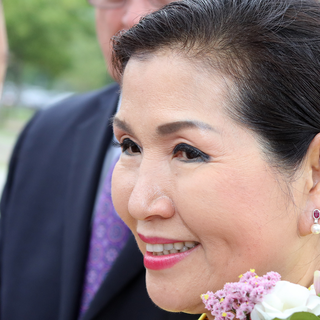eye: (167, 140, 215, 167), (108, 133, 146, 161)
